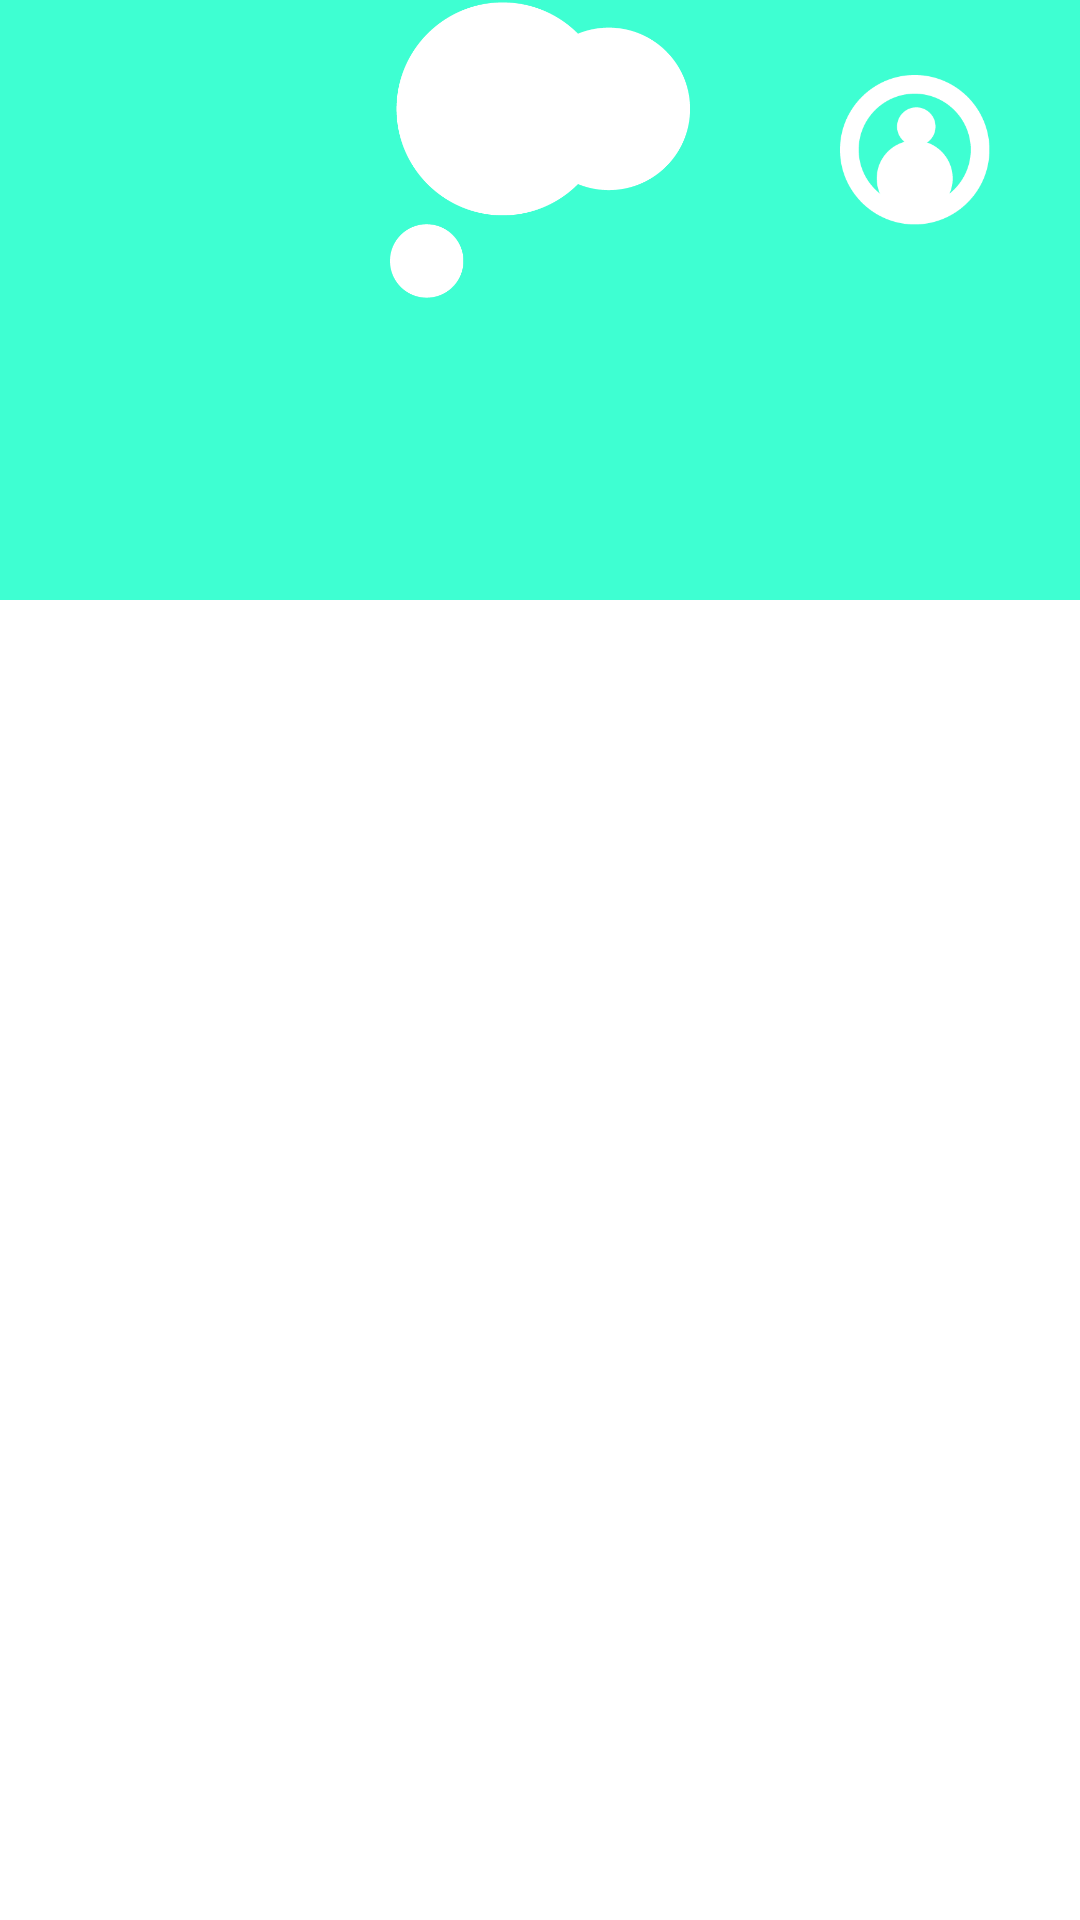

Icons on this 1080×1920 Android screen, each with the point to tap as (x,y):
cloud: (540,150)
men: (915,150)
